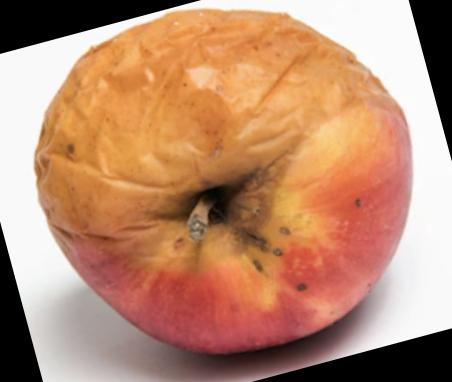Banana: (45, 22, 408, 357)
